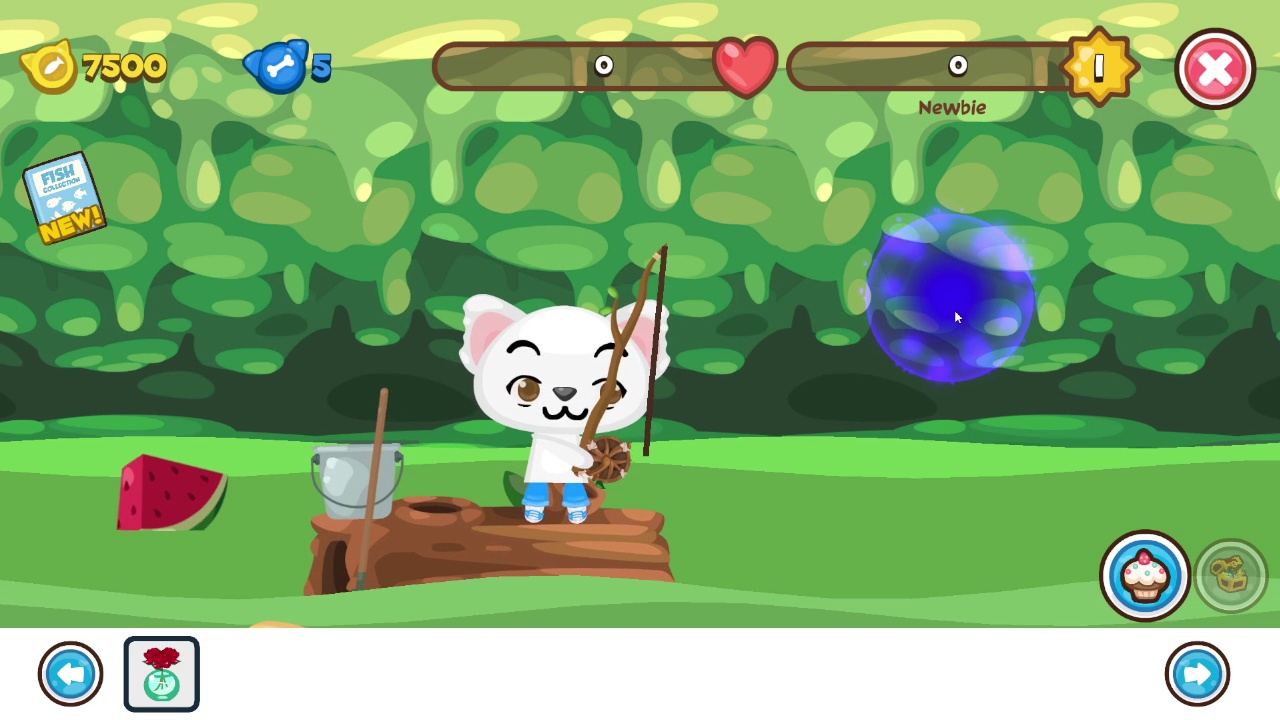point: (867, 210, 1038, 388)
